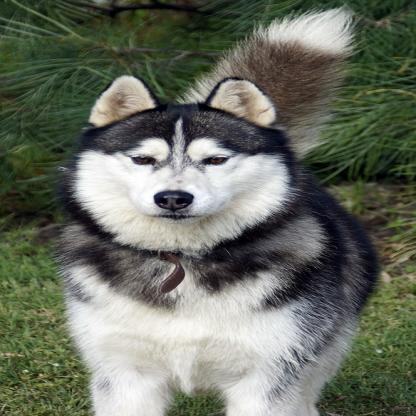husky: (55, 71, 377, 416)
